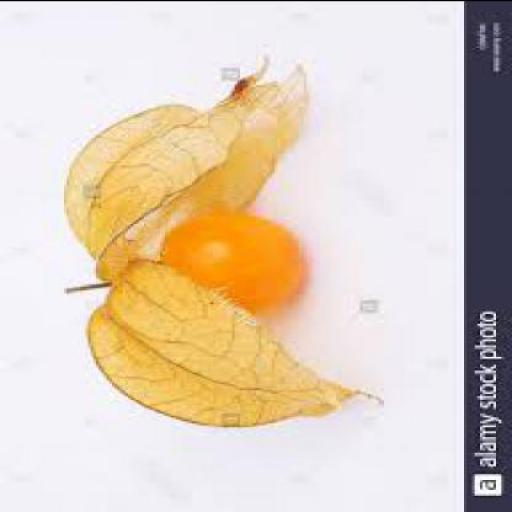biodegradable: (80, 59, 314, 430), (64, 62, 302, 281), (162, 217, 293, 315)
